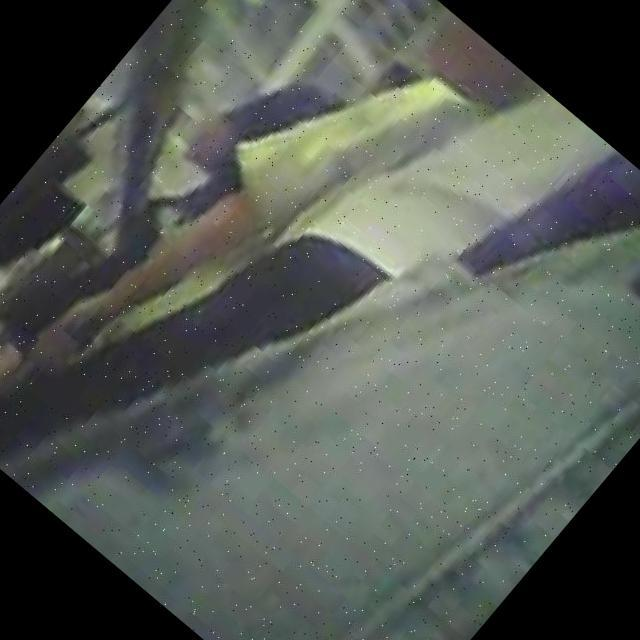person: (25, 0, 640, 640), (26, 0, 615, 562), (146, 0, 441, 298)
